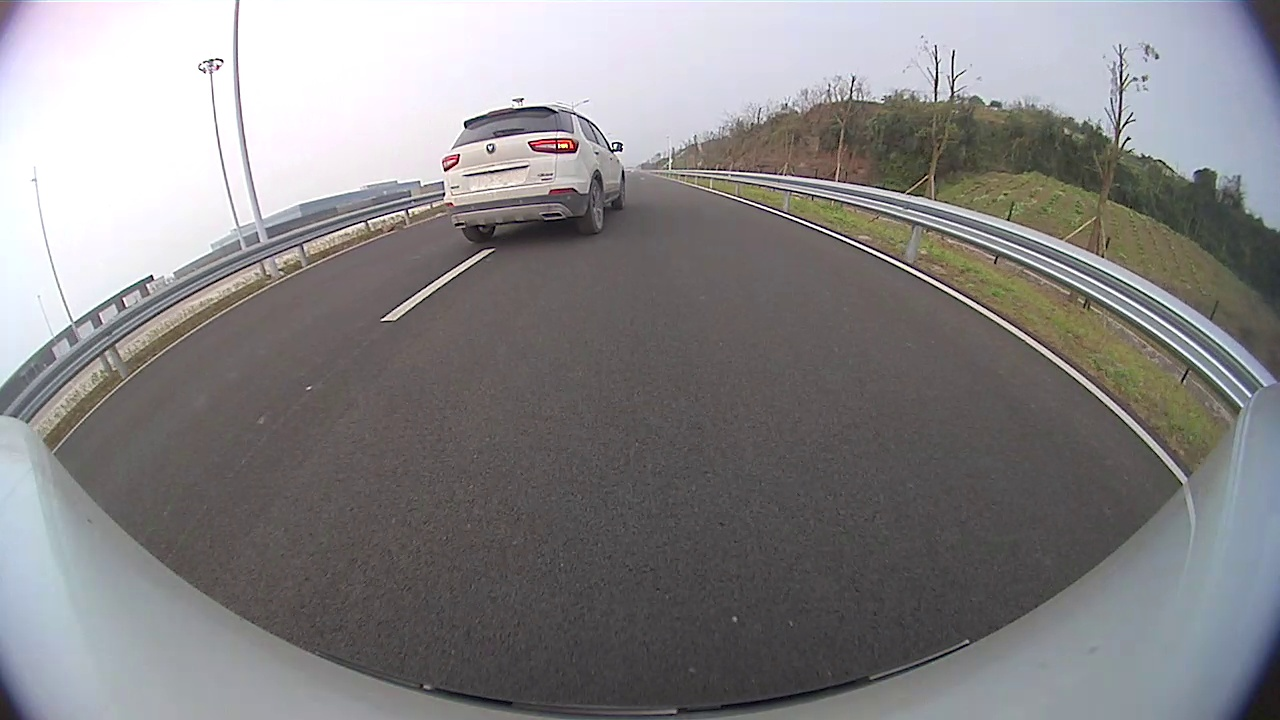car: (439, 100, 629, 247)
front: (614, 173, 627, 211)
rear: (577, 178, 604, 234)
